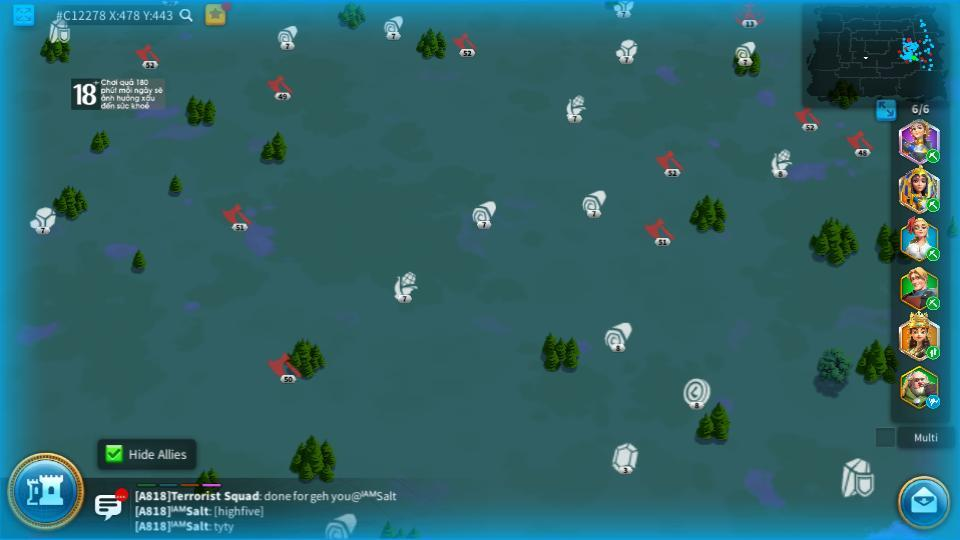gem-z-out: (611, 443, 638, 471)
march_farming: (923, 197, 940, 212), (925, 345, 941, 359), (925, 297, 941, 310), (924, 248, 939, 261), (924, 149, 939, 162)
march_idle: (925, 396, 942, 408)
